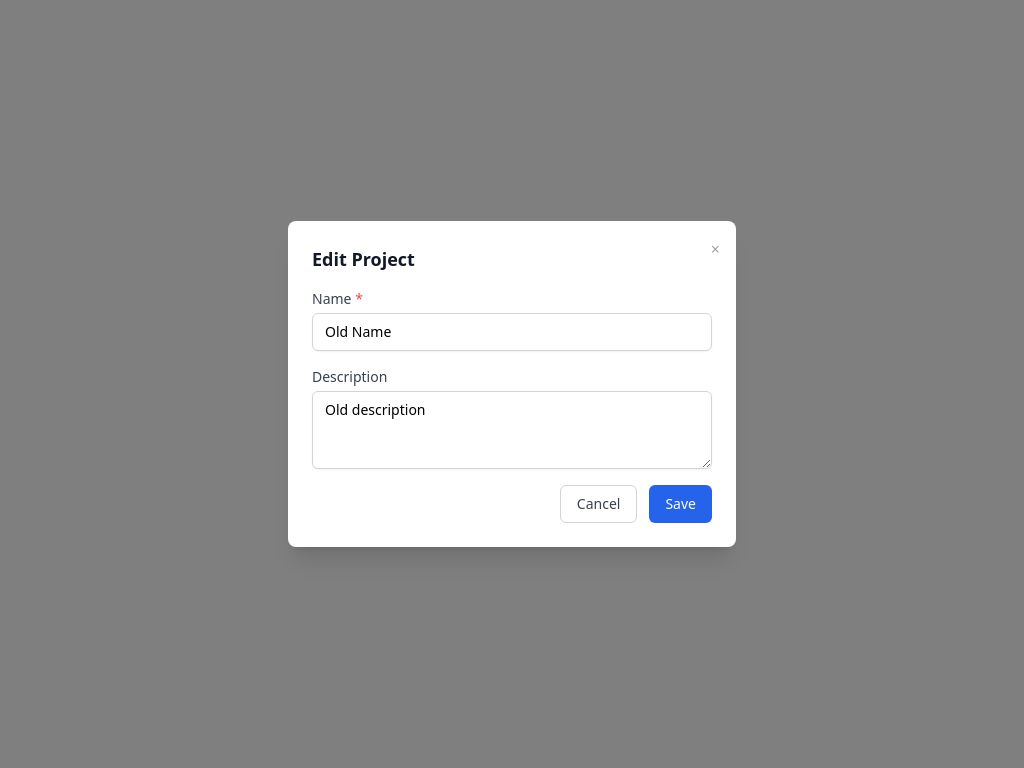
it: ProjectFormModal › shows error message when updateProject rejects
Replace the text in the field labelled "Name *" with "Updated Name" at (512, 332), box [312, 313, 712, 351]
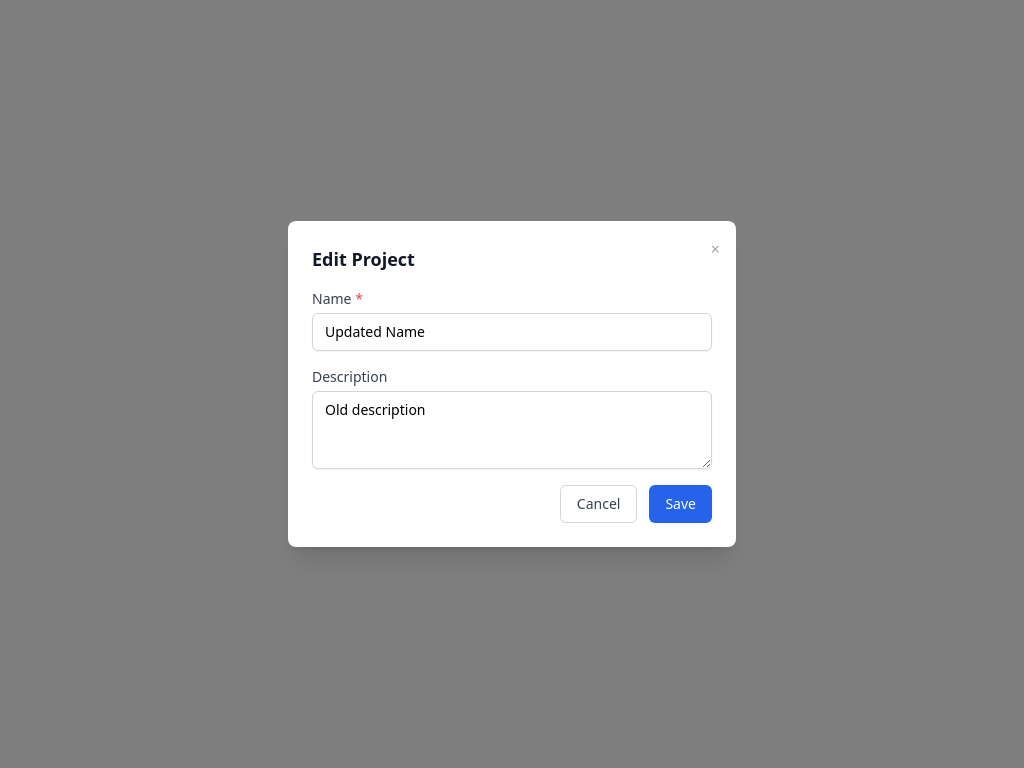
Submit the form, box [312, 289, 712, 523]
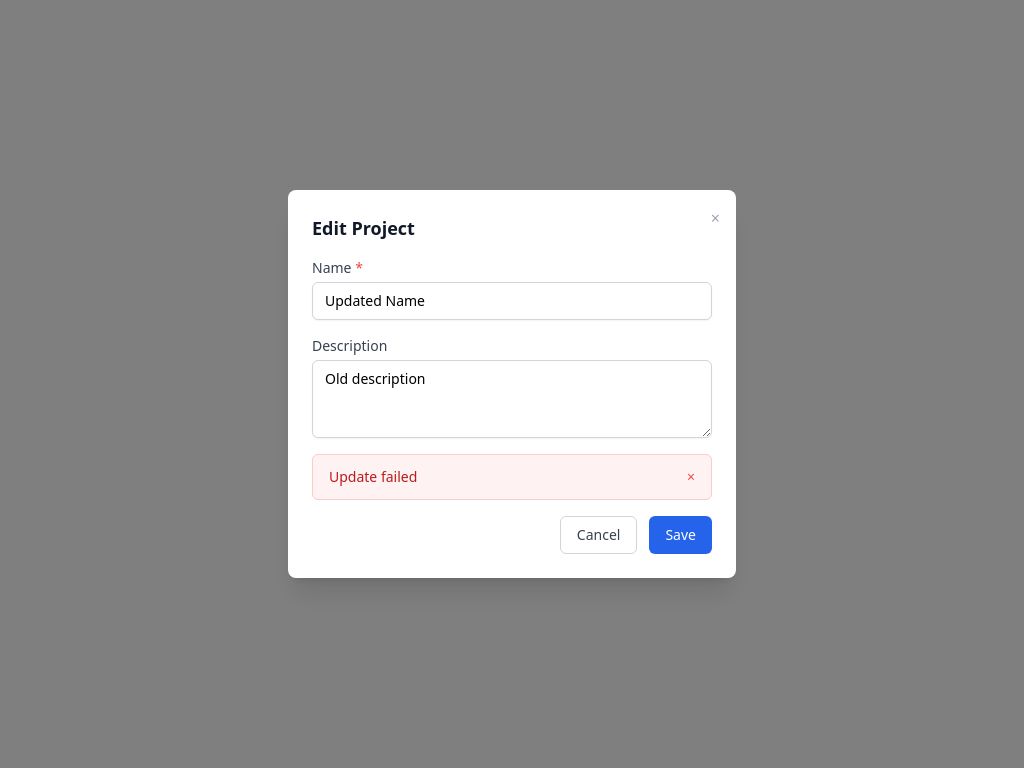
Expected: the text "Update failed" is shown, [329, 467, 417, 487]
